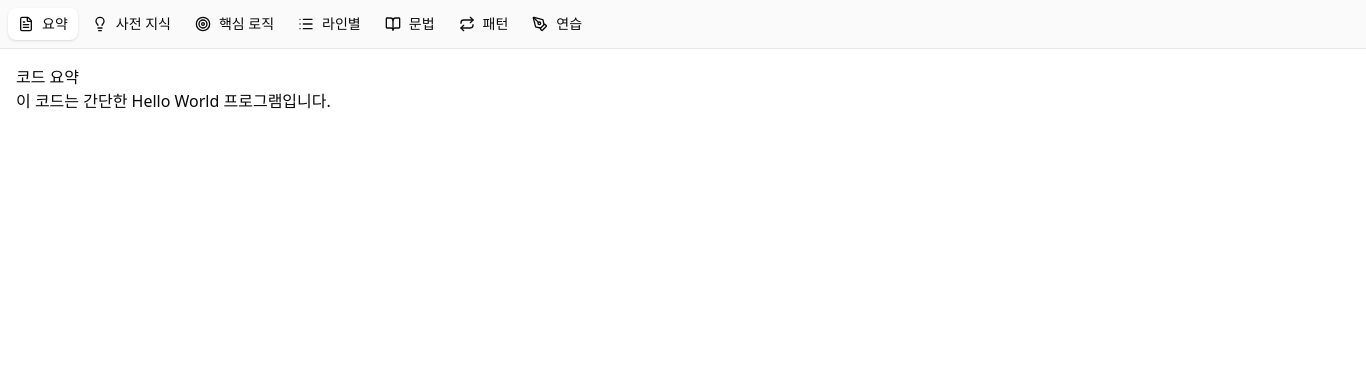
ExplanationPanel › 챕터 네비게이션 › 챕터 변경 시 해당 챕터의 콘텐츠가 표시되어야 함
Click the tab "사전 지식" at coordinates (131, 24), box x1=82 y1=8 x2=181 y2=40
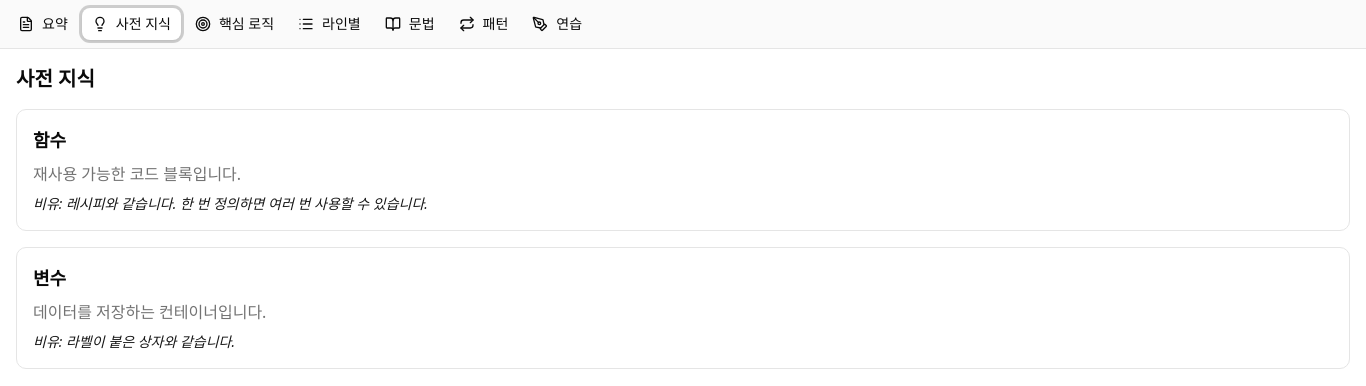
Check: the heading "함수" is shown, box x1=33 y1=128 x2=66 y2=152
